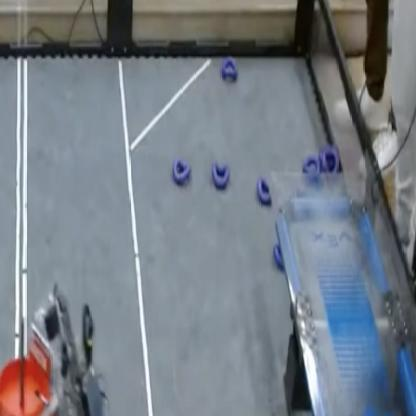ring: (319, 146, 339, 178), (301, 153, 321, 182), (256, 173, 274, 205), (210, 161, 229, 190), (172, 157, 190, 185), (273, 238, 289, 268), (220, 53, 237, 81)
